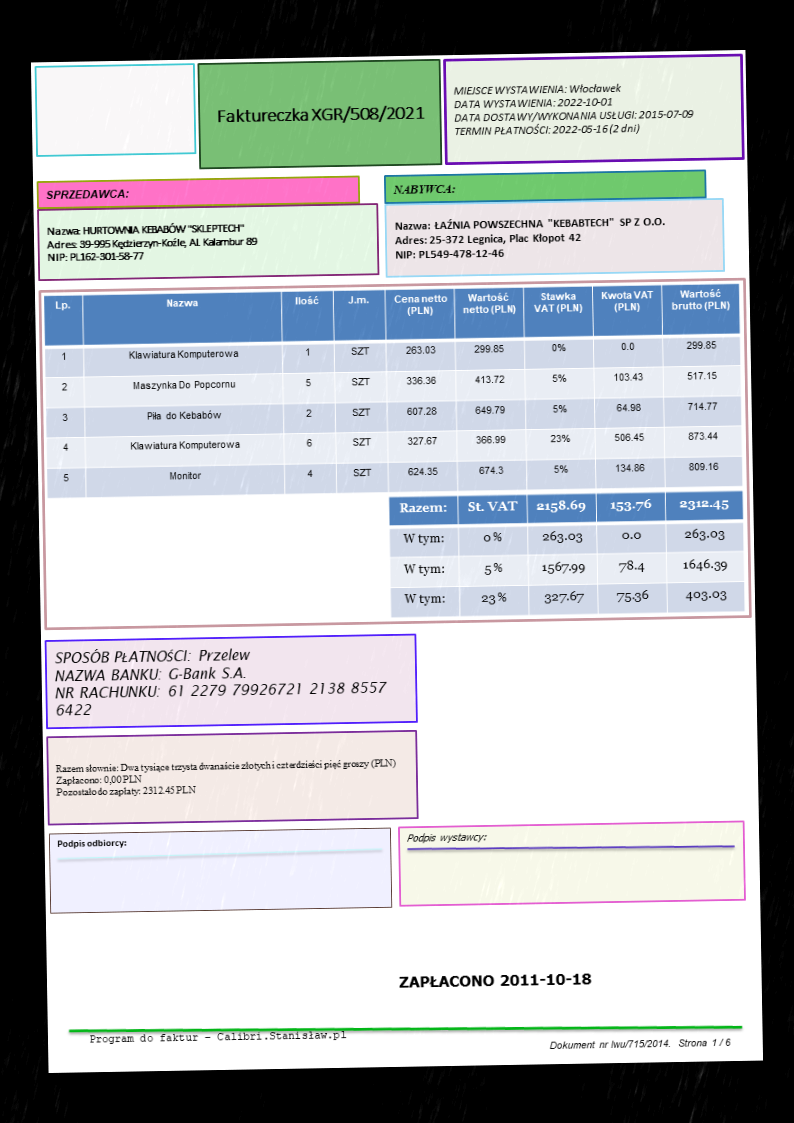Table: (41, 281, 742, 499), (386, 488, 744, 620)
TextBox: (51, 640, 393, 724), (50, 755, 402, 804), (448, 78, 697, 142), (391, 211, 671, 266), (41, 219, 263, 267), (211, 100, 425, 130), (86, 1025, 350, 1048), (392, 965, 596, 994), (545, 1031, 735, 1054), (403, 826, 488, 851), (40, 184, 131, 205), (51, 834, 129, 854), (389, 178, 455, 198)
